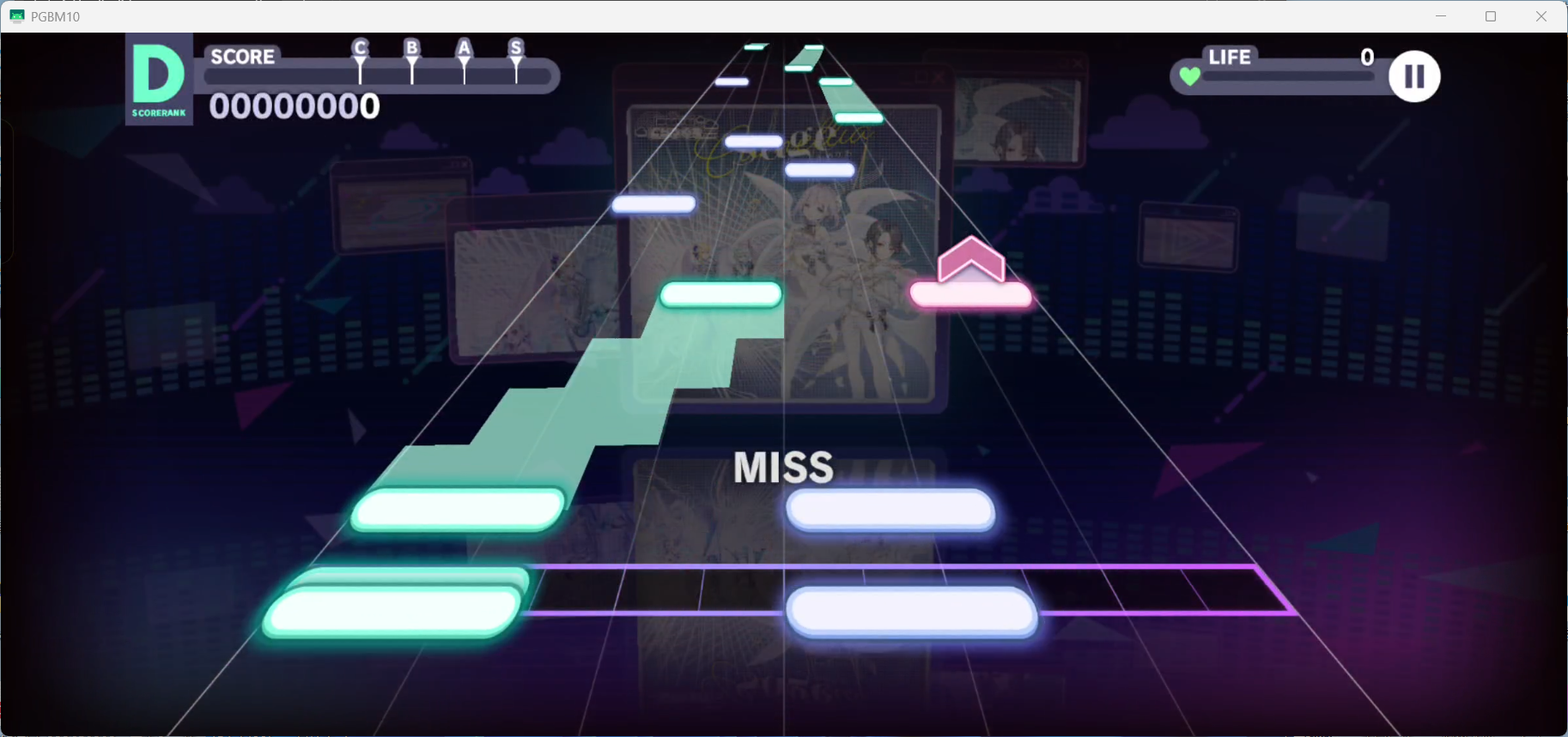flick: (938, 234, 1006, 286)
hold: (373, 309, 783, 486), (821, 86, 879, 112), (788, 51, 824, 65)
tap: (258, 583, 521, 640), (787, 586, 1039, 639), (351, 487, 565, 531), (785, 488, 995, 530), (659, 281, 781, 310), (910, 281, 1032, 308), (611, 195, 696, 213), (785, 163, 854, 177), (725, 135, 781, 148), (835, 112, 884, 124), (715, 77, 749, 87), (818, 77, 854, 86), (784, 65, 811, 71), (804, 45, 824, 50), (744, 45, 763, 50)
